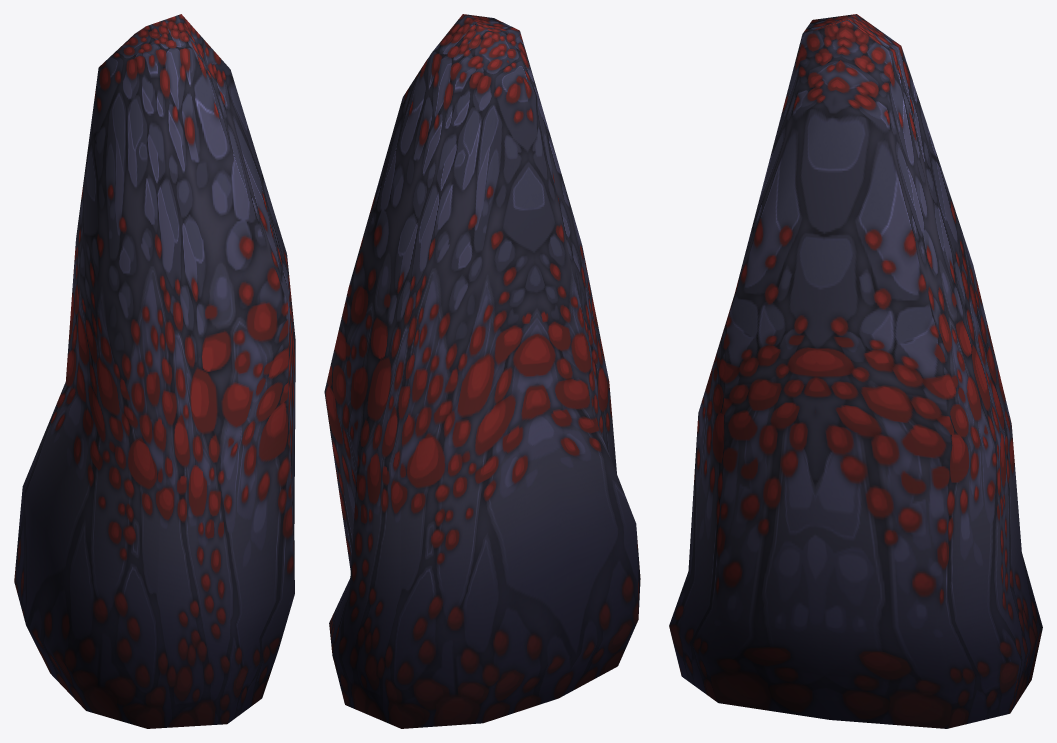
File: Rock_03a.FBX
3 views of the same model, side by side, from view 1: azimuth 30°, elevation 25°; view 2: azimuth 150°, elevation 25°; view 3: azimuth 270°, elevation 25° (orthographic). The views are drawn at different scales.
Visible parts, largest first — view 1: Rock_03a; view 2: Rock_03a; view 3: Rock_03a.
Boxes of the visible parts, x1=… form: Rock_03a: x1=14, y1=14, x2=295, y2=728; Rock_03a: x1=324, y1=14, x2=640, y2=728; Rock_03a: x1=669, y1=14, x2=1042, y2=728.
Bounding box in the file's own units: 179 × 453 × 228.
